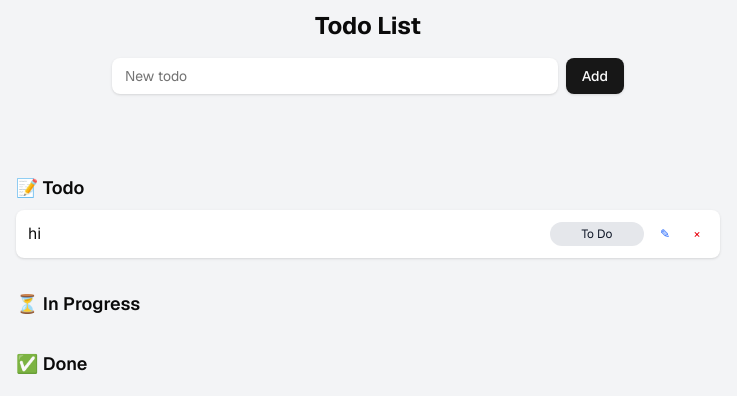
Test: Home page data flow › optimistically updates status and persists on success
Check: the text "hi" is shown, box [28,222,41,246]
Select "Done" in the dropdown named "change todo status". click: (597, 234)
box: [550,222,644,246]
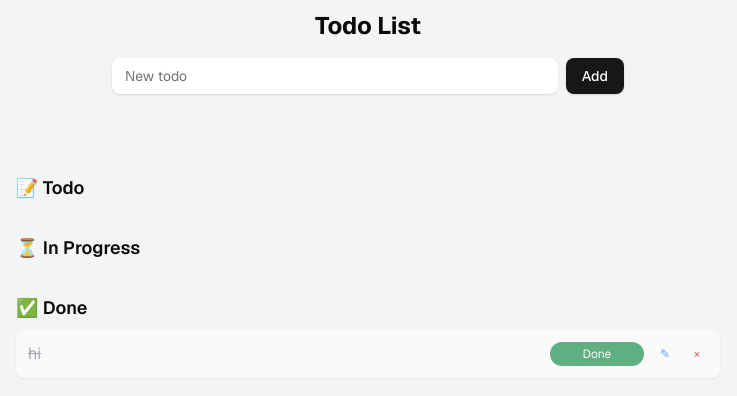
Check: the dropdown named "change todo status" shows "Done", box [550,342,644,366]
